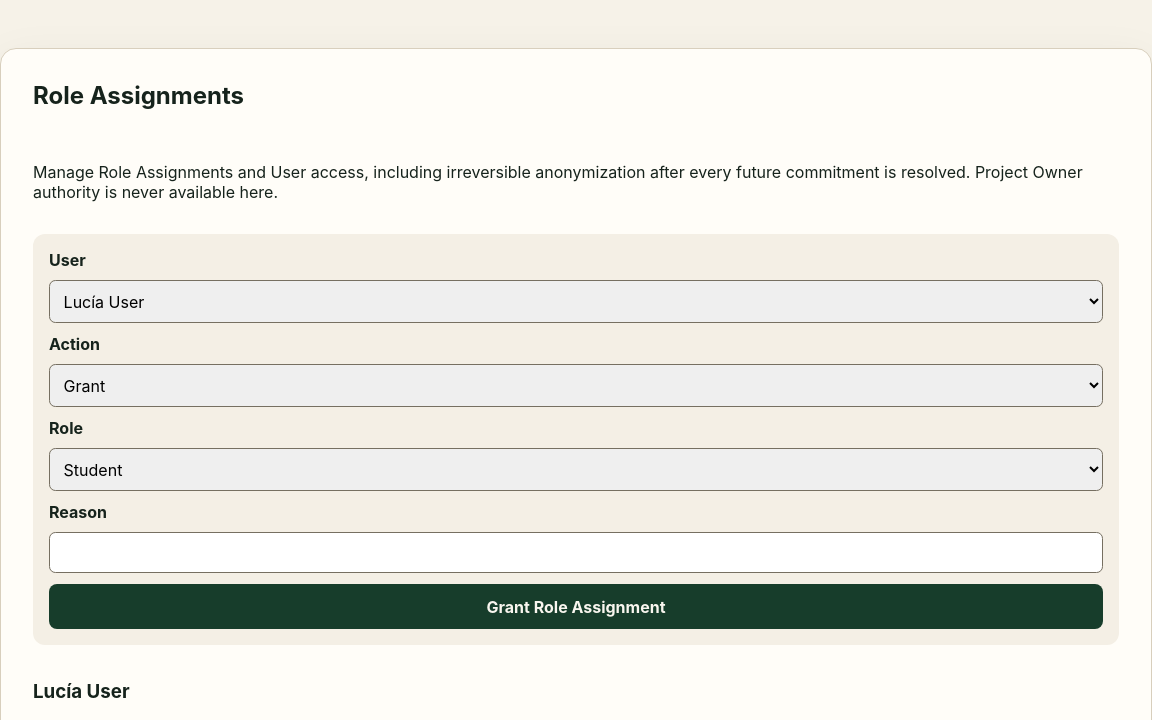
Test: Role Assignment administration › grants a reasoned Role Assignment and keeps the User's existing role visible
Expected: the heading "Role Assignments" is shown, 33,81 -> 244,110
Select "Lucía User" in the dropdown labelled "User". click: point(576, 302)
box: 49,280 -> 1103,324
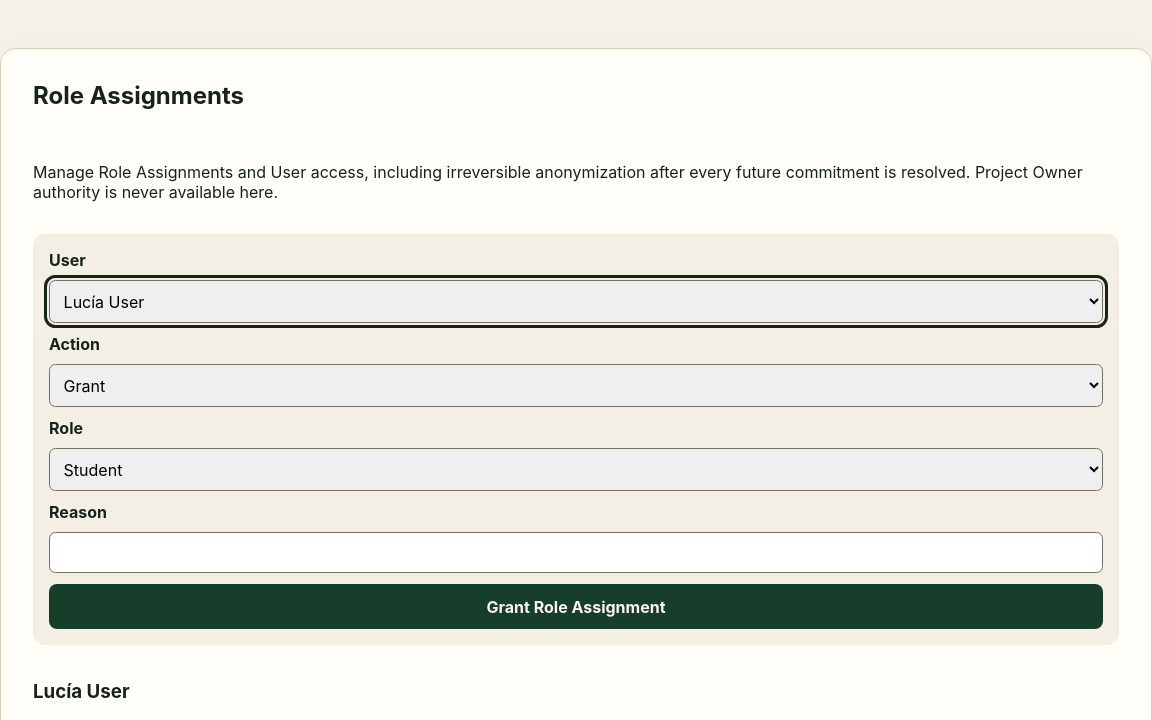
Select "Teacher" in the dropdown labelled "Role". click: point(576, 470)
box: 49,448 -> 1103,491
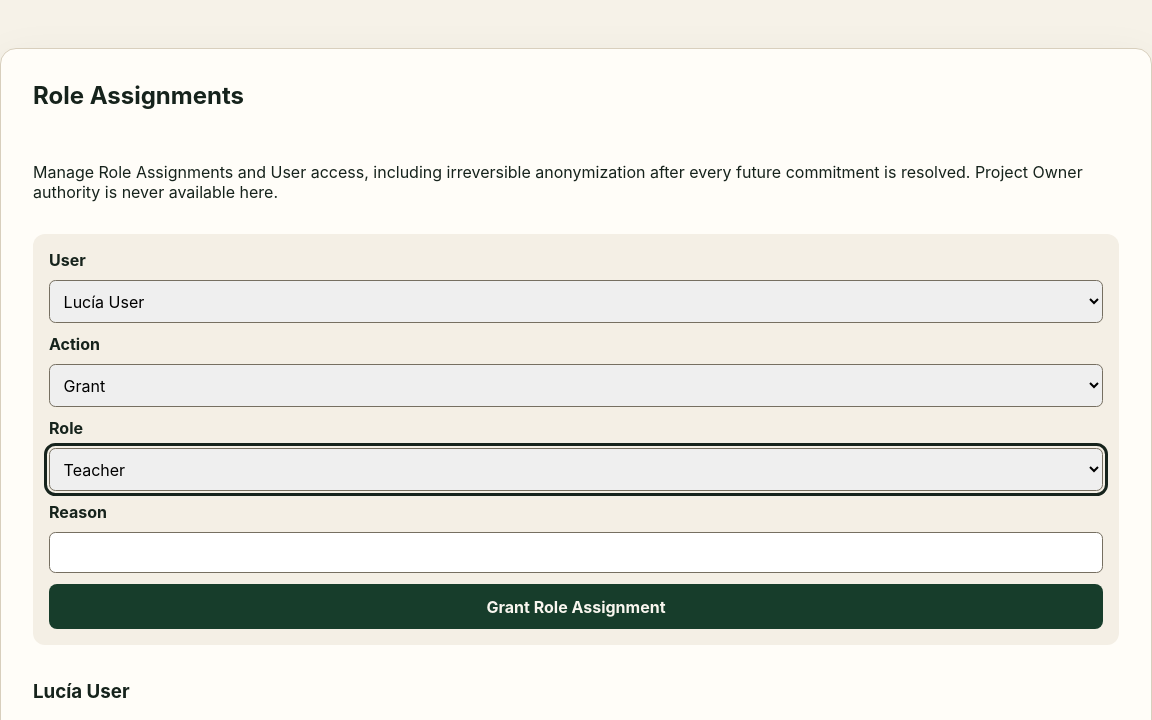
Type "Approved for teaching" into the field labelled "Reason". click: point(576, 553)
box: 49,532 -> 1103,573
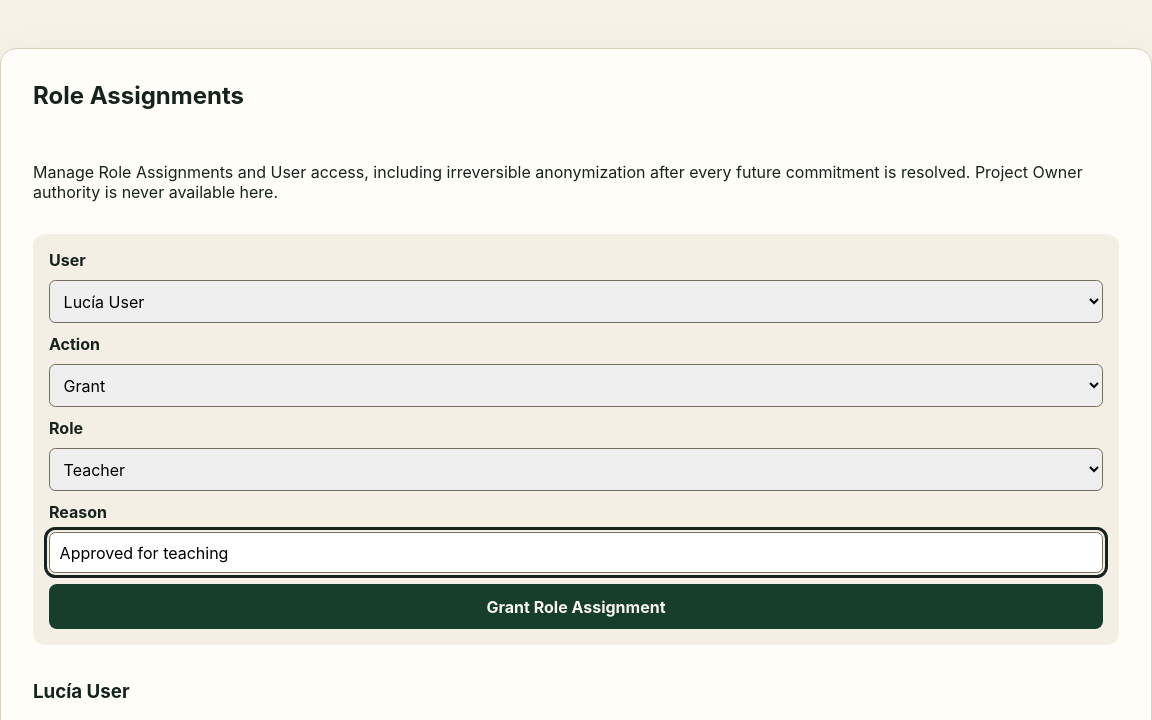
Click the button "Grant Role Assignment". click: point(576, 607)
box: 49,584 -> 1103,629
(page scrolled)
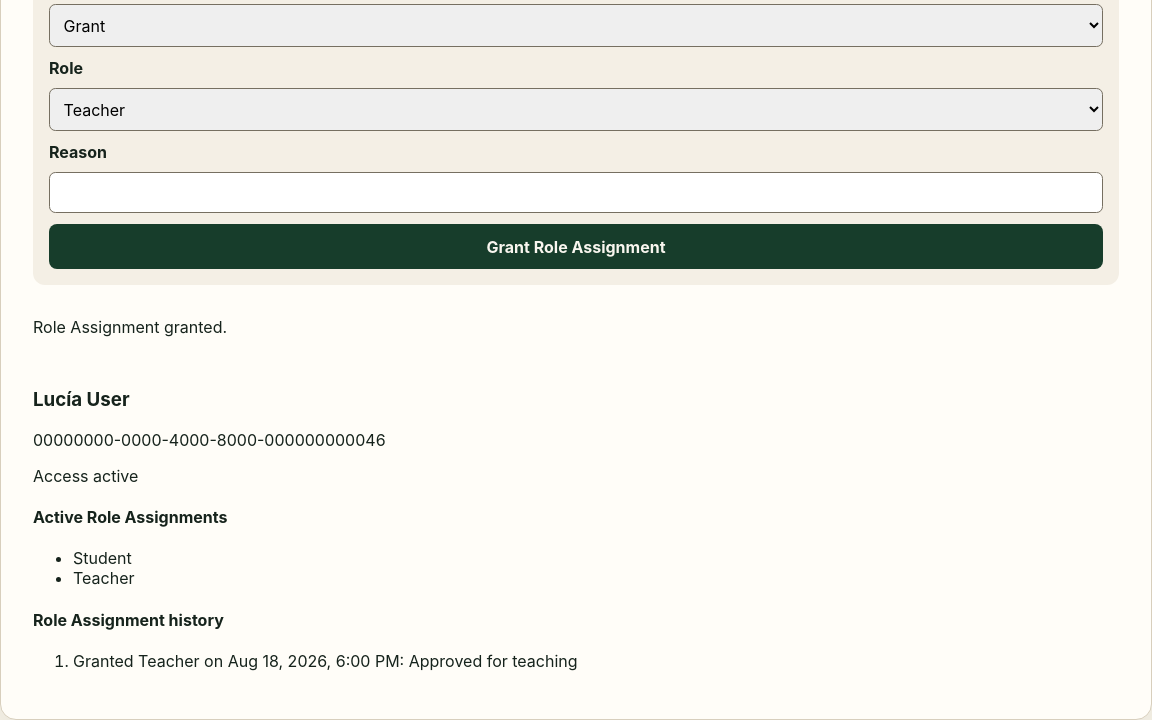
Expected: the list item "Approved for teaching" is shown, 73,651 -> 578,671
